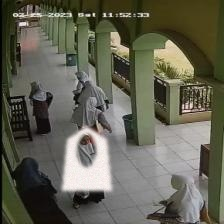Mukena: (62, 125, 111, 191)
